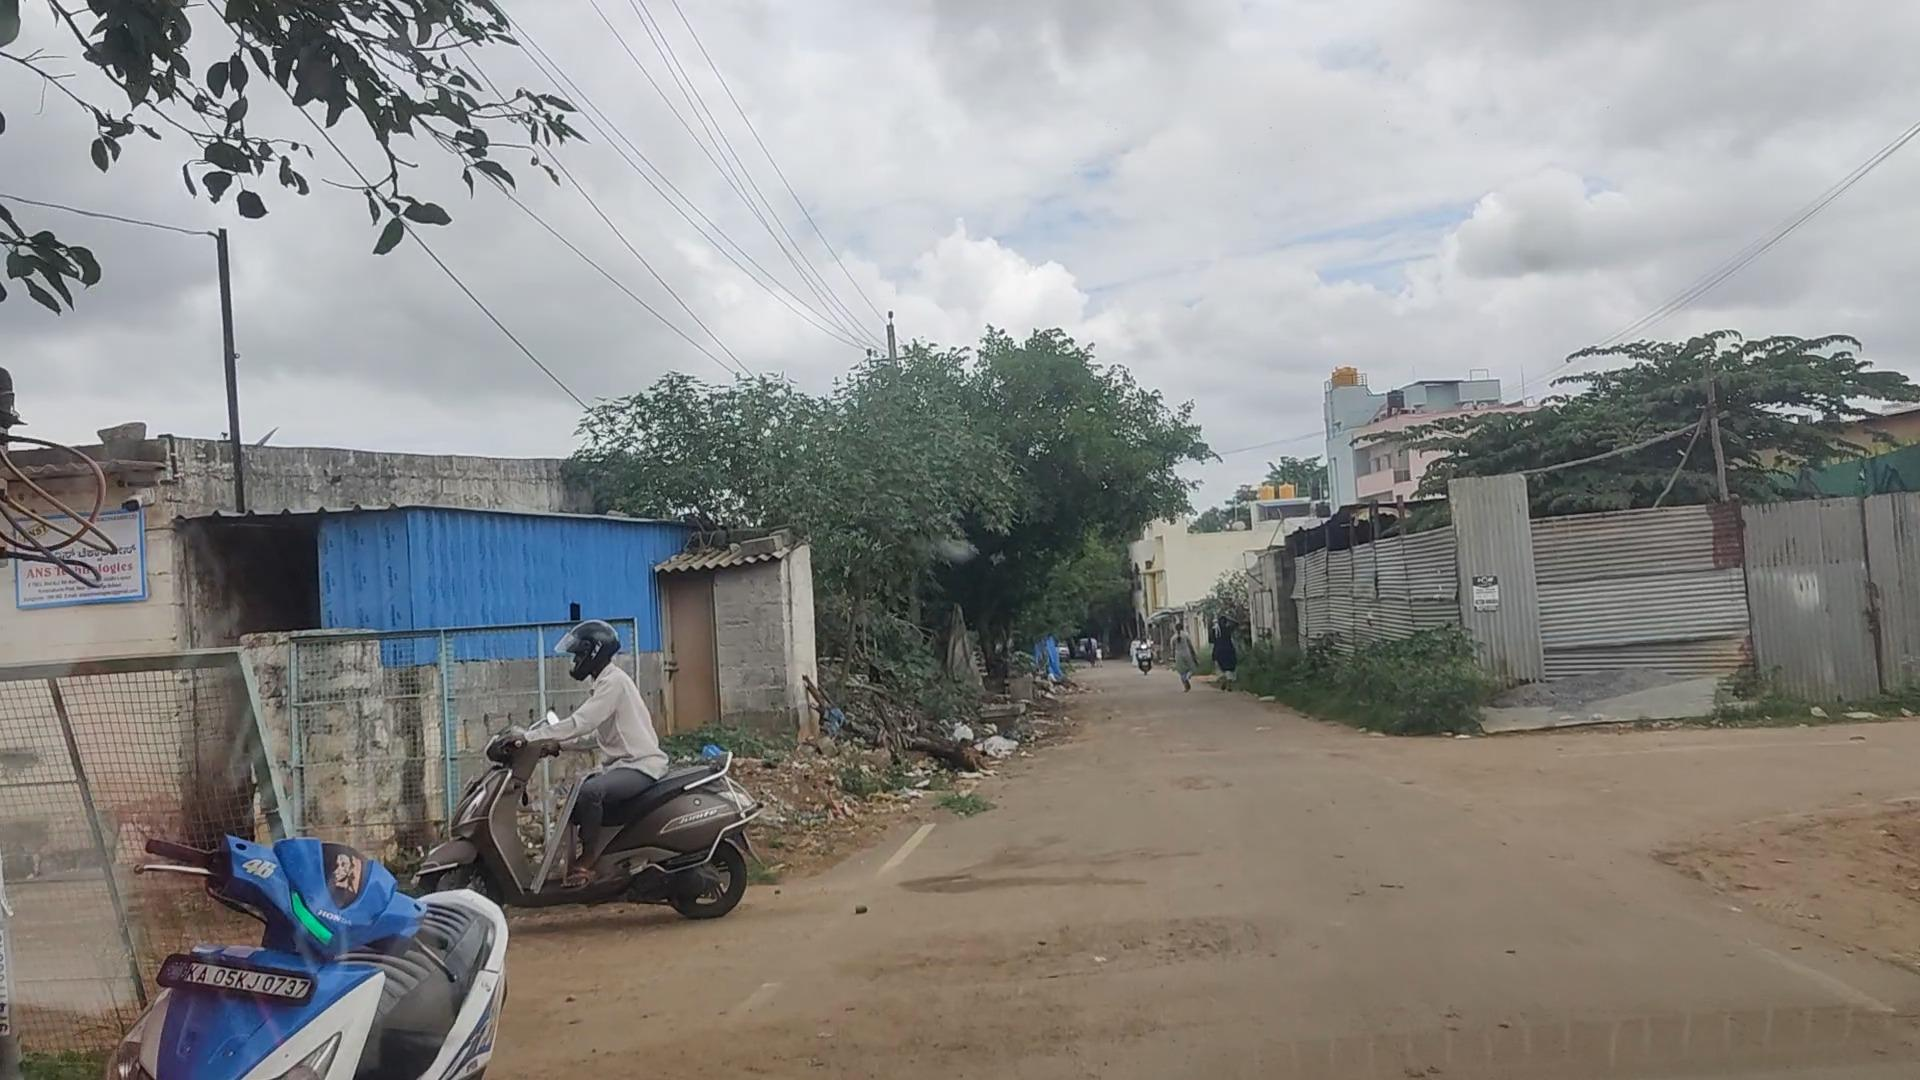LMV: (473, 600, 728, 913)
RoadDamages: (895, 922, 1274, 978)
